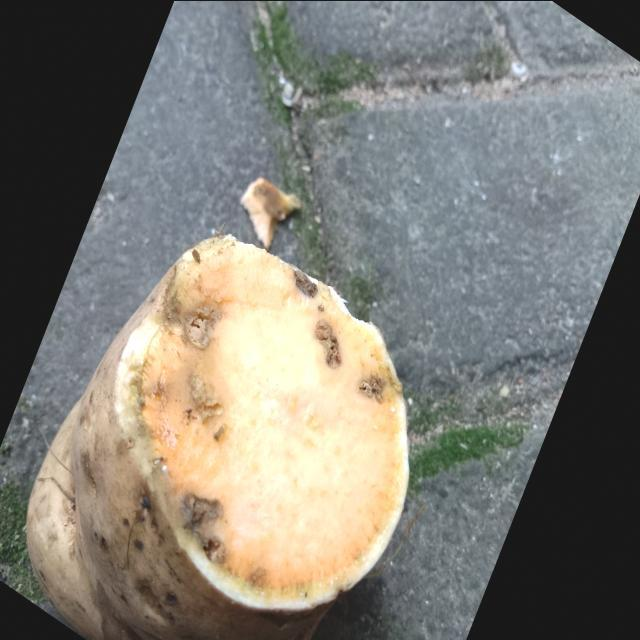Sick Sweet Potato_Tuber Rot: (140, 242, 409, 605)
